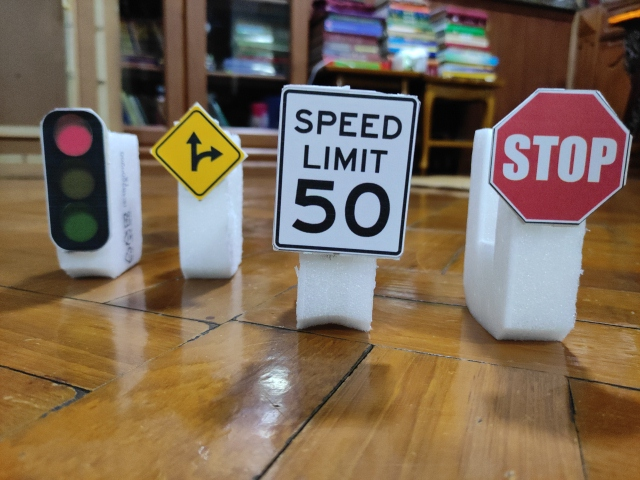Red Traffic Light: (41, 108, 111, 252)
Speed Limit 50: (274, 88, 419, 259)
Stop Sign: (488, 88, 631, 225)
Straight Or Right Sign: (154, 108, 245, 199)
